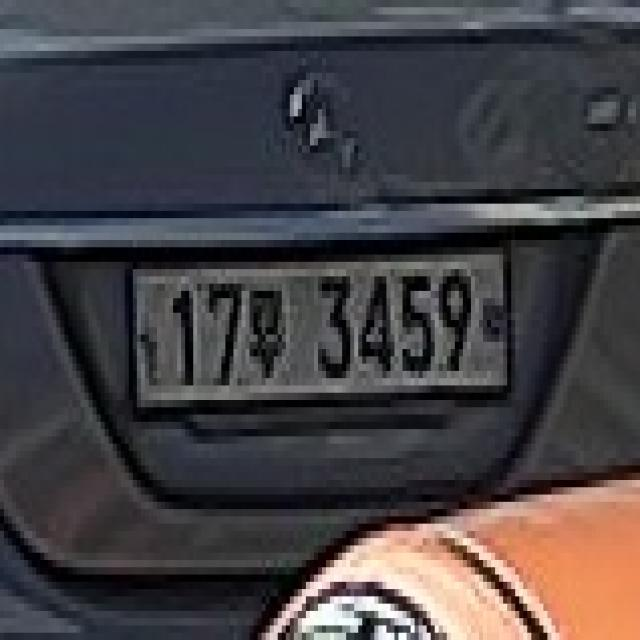1: (169, 276, 197, 400)
3: (310, 269, 354, 386)
4: (358, 262, 394, 393)
5: (398, 269, 434, 386)
7: (201, 276, 246, 393)
9: (435, 262, 475, 378)
license_plate: (117, 225, 519, 422)
lu: (245, 276, 290, 386)
